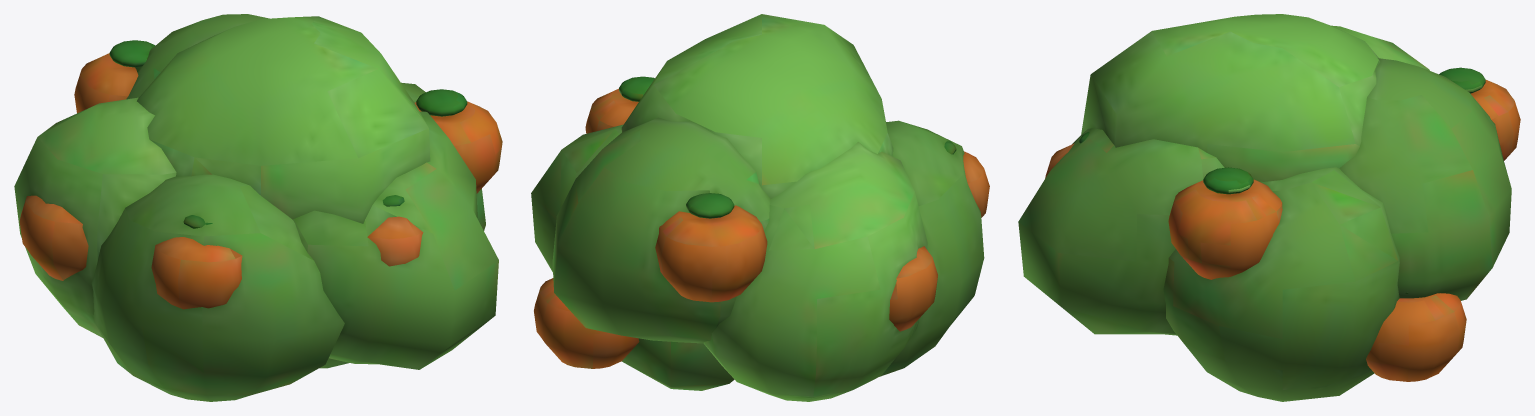
Rendered from crop_lentil.glb.
3 renders of one model, left to right at view 1: azimuth 30°, elevation 25°; view 2: azimuth 150°, elevation 25°; view 3: azimuth 270°, elevation 25°, orthographic. The views are drawn at different scales.
Parts seen in each view (by area): view 1: crop_lentil, fruit; view 2: crop_lentil, fruit; view 3: crop_lentil, fruit.
Boxes of the visible parts, x1,y1,x2,y2 form: crop_lentil: (14, 14, 498, 401); fruit: (19, 53, 502, 309); crop_lentil: (531, 14, 984, 401); fruit: (534, 88, 989, 368); crop_lentil: (1018, 14, 1511, 401); fruit: (1045, 80, 1520, 381).
Bounding box in the file's own units: 0.2659 × 0.2091 × 0.275.
Materials: 1 (1 with a texture image).
